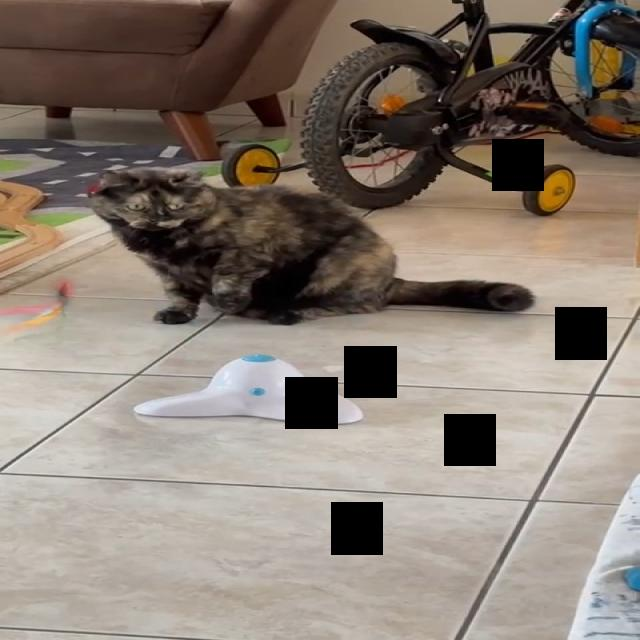authorized: (85, 165, 535, 326)
